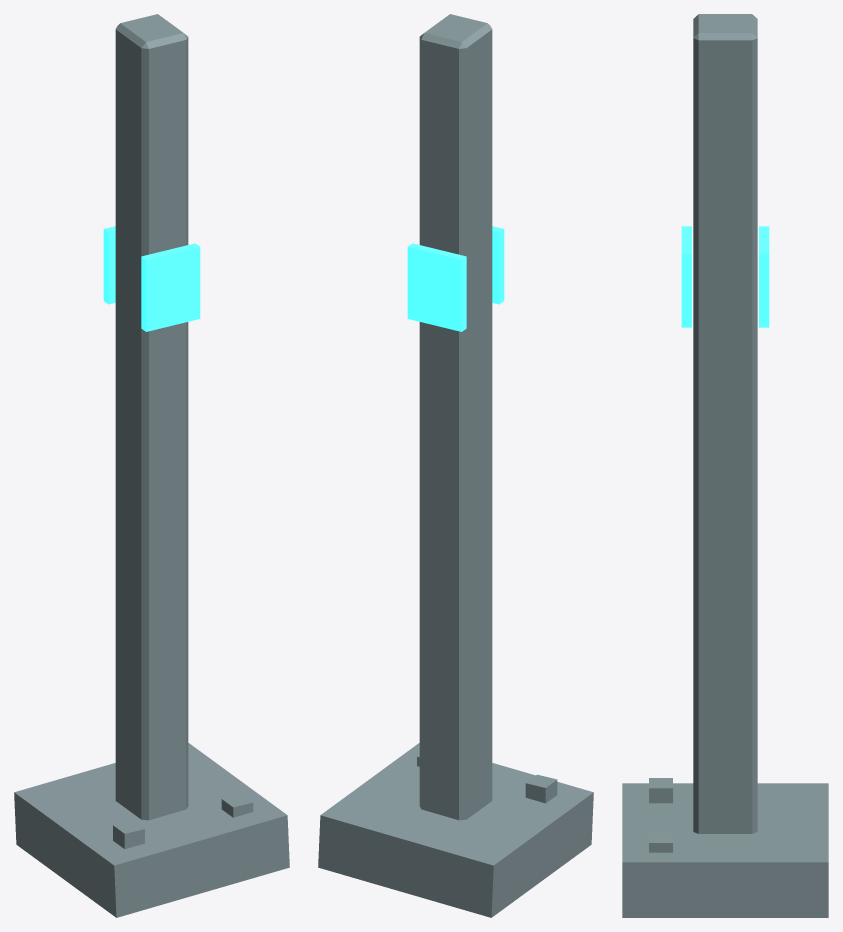
The model's file is RoadPlan_RampParapet_2L_Rise8p4_L110_Upright_8m_1.glb.
3 views of the same model, side by side, from view 1: azimuth 30°, elevation 25°; view 2: azimuth 150°, elevation 25°; view 3: azimuth 270°, elevation 25° (orthographic). The views are drawn at different scales.
Visible parts, largest first — view 1: RoadPlan_RampParapet_2L_Rise8p4_L110_Upright_8m_1; view 2: RoadPlan_RampParapet_2L_Rise8p4_L110_Upright_8m_1; view 3: RoadPlan_RampParapet_2L_Rise8p4_L110_Upright_8m_1.
Boxes of the visible parts, bbox=[...] form: RoadPlan_RampParapet_2L_Rise8p4_L110_Upright_8m_1: bbox=[14, 14, 289, 917]; RoadPlan_RampParapet_2L_Rise8p4_L110_Upright_8m_1: bbox=[318, 14, 593, 917]; RoadPlan_RampParapet_2L_Rise8p4_L110_Upright_8m_1: bbox=[622, 14, 828, 917].
Bounding box in the file's own units: 0.2429 × 1.1 × 0.24.
